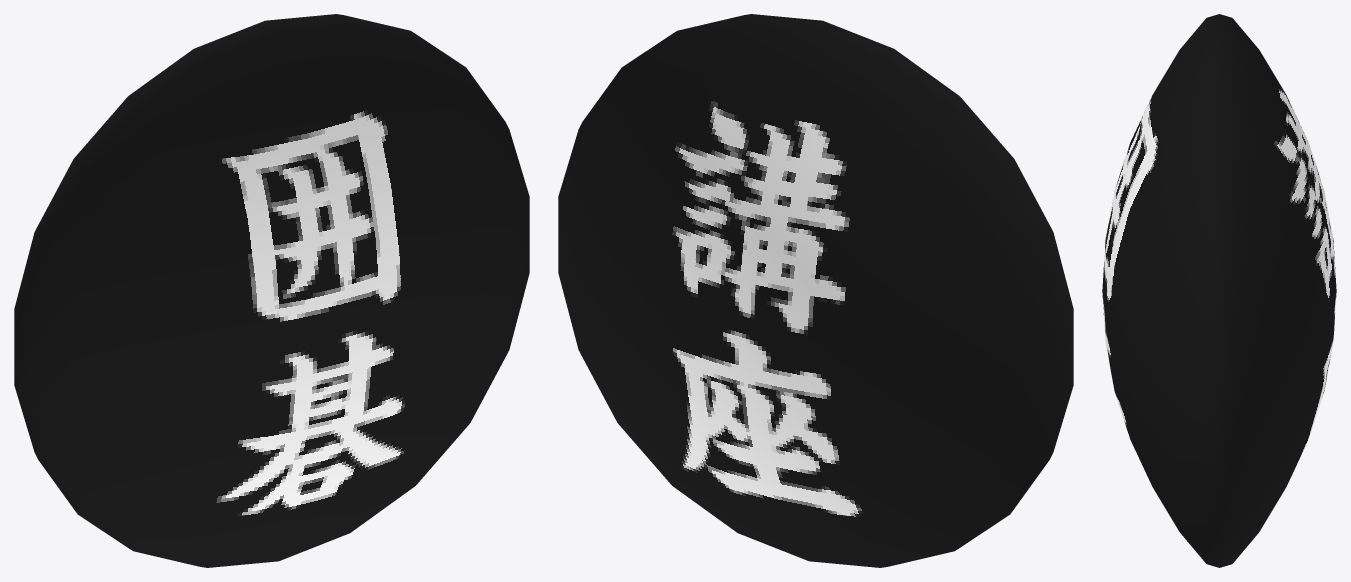
Rendered from ps2_save-icons_sekaisaikyouginseiigokouza.glb.
The picture shows the model from 3 angles, left to right: view 1: azimuth 30°, elevation 25°; view 2: azimuth 150°, elevation 25°; view 3: azimuth 270°, elevation 25°; orthographic projection. The views are drawn at different scales.
Parts seen in each view (by area): view 1: info.ico; view 2: info.ico; view 3: info.ico.
Part boxes in pixels (left/top/right/bottom): info.ico: left=14, top=14, right=529, bottom=567; info.ico: left=558, top=14, right=1073, bottom=567; info.ico: left=1102, top=14, right=1336, bottom=567.
Size of the model in its own units: 3.39 by 3.43 by 1.44.
1 material, 1 textured.
